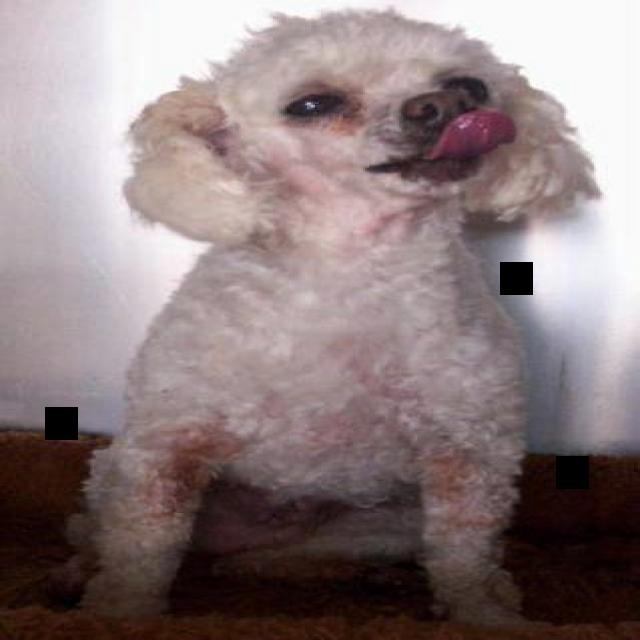adult_dog: (42, 1, 606, 631)
